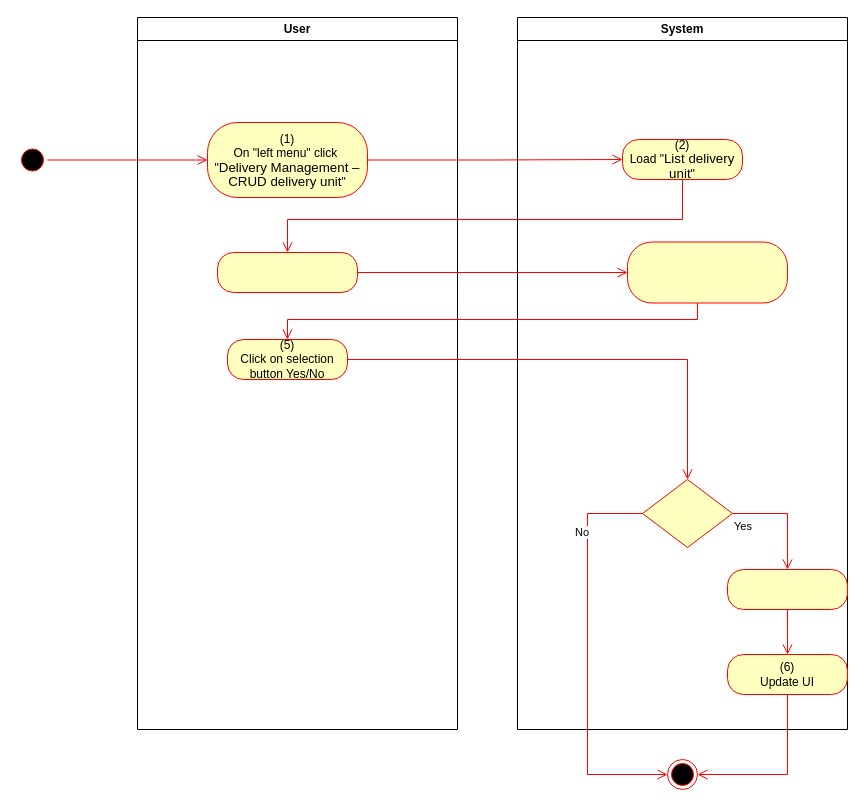
Some shapes in this 865 by 807 pixel diagram are drawn without their labels. Here are the shapes that lost their labels. From the top down, the box of each, then its label:
(216, 252, 358, 292): (3) Click on need update delivery unit
(626, 241, 788, 303): (4) Load " Yes/No dialog "
(726, 568, 848, 610): (5.1) Delete delivery unit from DB
